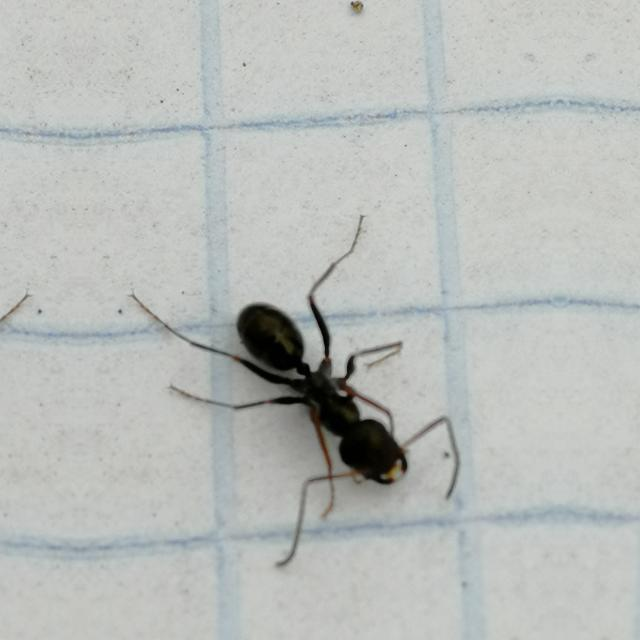Cataglyphis: (218, 268, 444, 536)
